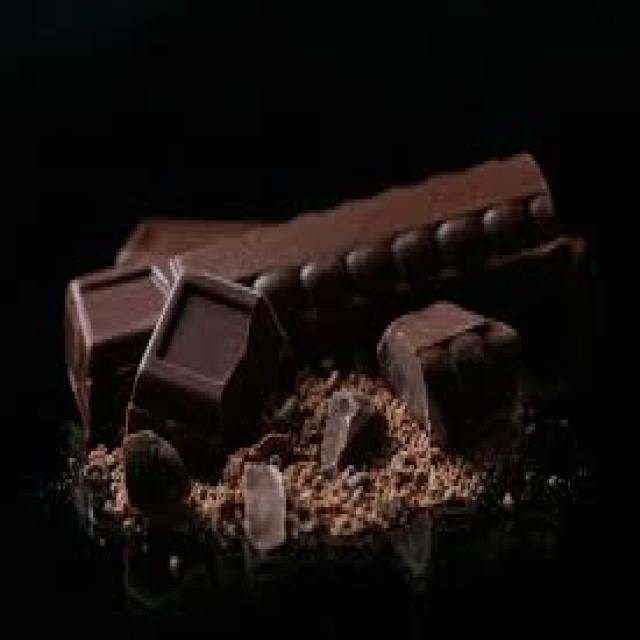Chocolate: (67, 148, 560, 512)
